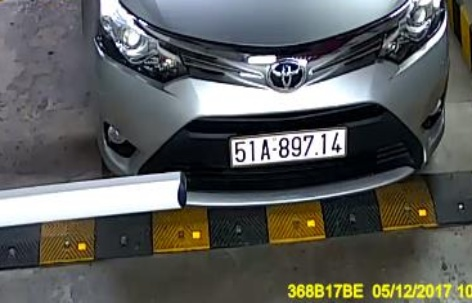plate: (222, 121, 355, 169)
